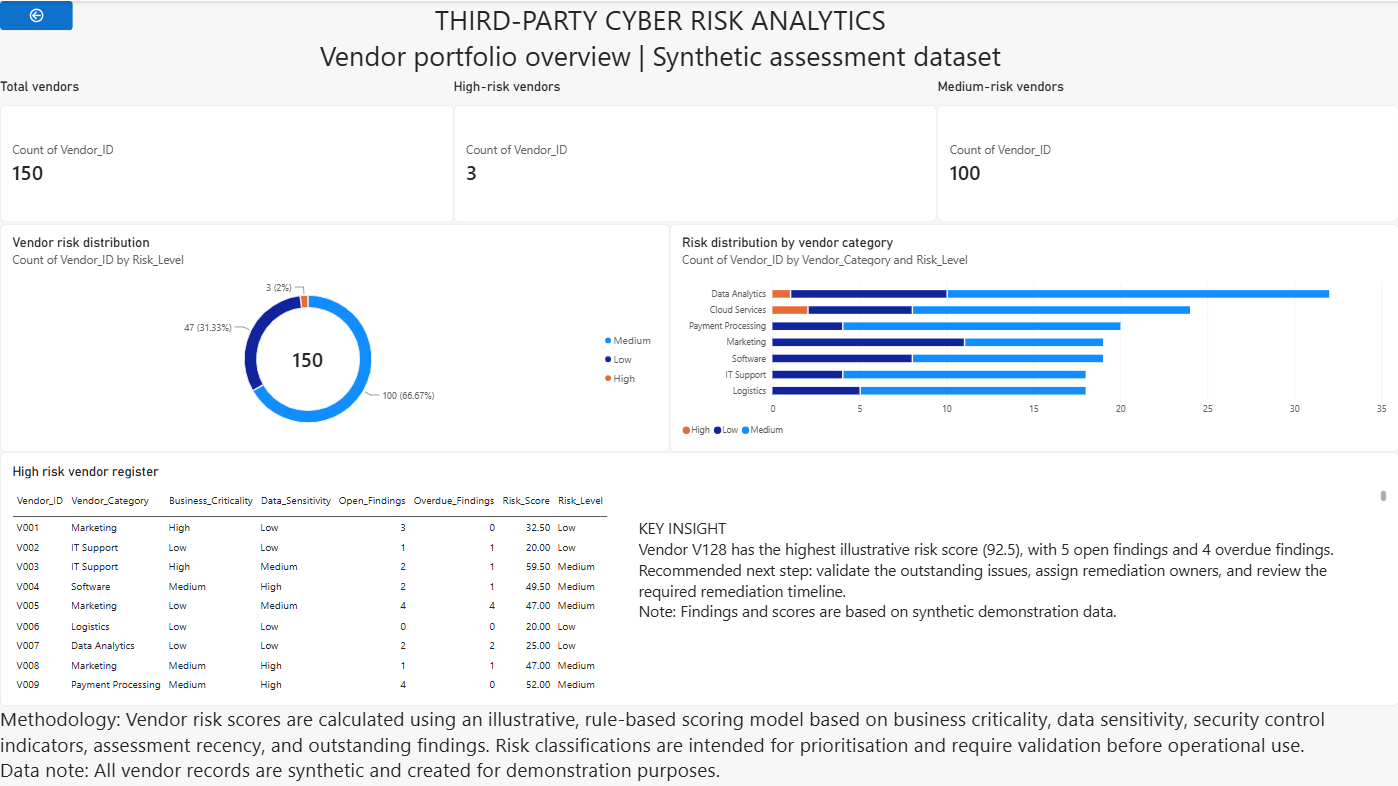

The dashboard page shown, as its layout file describes it:
{"tool":"powerbi","page":{"name":"Page 1","canvas":[1920,1080],"ordinal":0},"visuals":[{"type":"cardVisual","title":"Total vendors","fields":{"Data":["CountNonNull(vendor_risk_analysis.Vendor_ID)"]},"box":[0,106.7,623.2,198.5],"z":0},{"type":"cardVisual","title":"High-risk vendors","fields":{"Data":["CountNonNull(vendor_risk_analysis.Vendor_ID)"]},"box":[623.2,106.7,663.8,198.5],"z":1000},{"type":"cardVisual","title":"Medium-risk vendors","fields":{"Data":["CountNonNull(vendor_risk_analysis.Vendor_ID)"]},"box":[1287,106.7,633.9,198.5],"z":2000},{"type":"donutChart","title":"Vendor risk distribution","fields":{"Category":["vendor_risk_analysis.Risk_Level"],"Y":["CountNonNull(vendor_risk_analysis.Vendor_ID)"]},"box":[0,305.2,919.9,313.7],"z":3000},{"type":"tableEx","title":"High risk vendor register","fields":{"Values":["vendor_risk_analysis.Vendor_ID","vendor_risk_analysis.Vendor_Category","vendor_risk_analysis.Business_Criticality","vendor_risk_analysis.Data_Sensitivity","vendor_risk_analysis.Open_Findings","vendor_risk_analysis.Overdue_Findings","vendor_risk_analysis.Risk_Score","vendor_risk_analysis.Risk_Level"]},"box":[0,618.9,1920.8,347.9],"z":4000},{"type":"actionButton","box":[0,0,100,40],"z":5000},{"type":"barChart","title":"Risk distribution by vendor category","fields":{"Category":["vendor_risk_analysis.Vendor_Category"],"Series":["vendor_risk_analysis.Risk_Level"],"Y":["CountNonNull(vendor_risk_analysis.Vendor_ID)"]},"box":[919.9,305.2,1001,313.7],"z":6000},{"type":"textbox","box":[207,0,1397.9,106.7],"z":7000},{"type":"textbox","box":[0,966.8,1920.8,113.1],"z":8000},{"type":"textbox","box":[876.4,708.8,1002.4,206],"z":9000}]}

Visuals, with their boxes in screenshot pixels (x1, y1, x2, y2), scaled from the page's 1920x1080 canvas onto the 1398x786 screenshot:
"Total vendors" cardVisual: [x1=0, y1=78, x2=454, y2=222]
"High-risk vendors" cardVisual: [x1=454, y1=78, x2=937, y2=222]
"Medium-risk vendors" cardVisual: [x1=937, y1=78, x2=1397, y2=222]
"Vendor risk distribution" donutChart: [x1=0, y1=222, x2=670, y2=450]
"High risk vendor register" tableEx: [x1=0, y1=450, x2=1397, y2=704]
actionButton: [x1=0, y1=0, x2=73, y2=29]
"Risk distribution by vendor category" barChart: [x1=670, y1=222, x2=1397, y2=450]
textbox: [x1=151, y1=0, x2=1169, y2=78]
textbox: [x1=0, y1=704, x2=1397, y2=785]
textbox: [x1=638, y1=516, x2=1368, y2=666]
